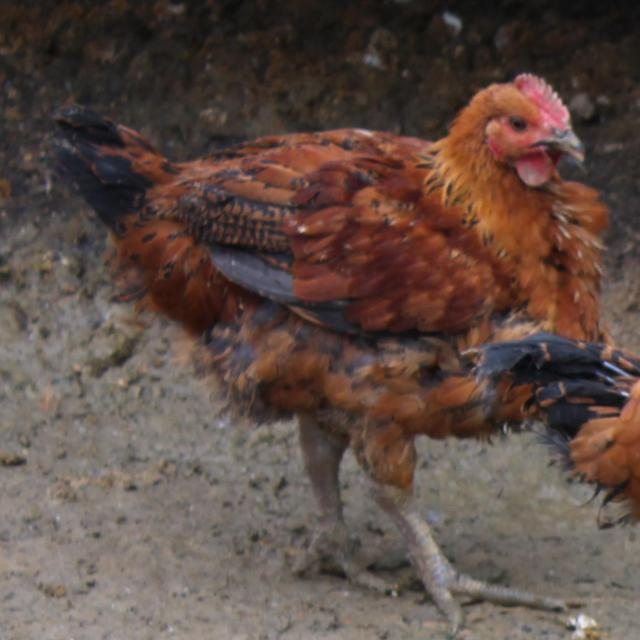hen: (52, 69, 637, 640)
